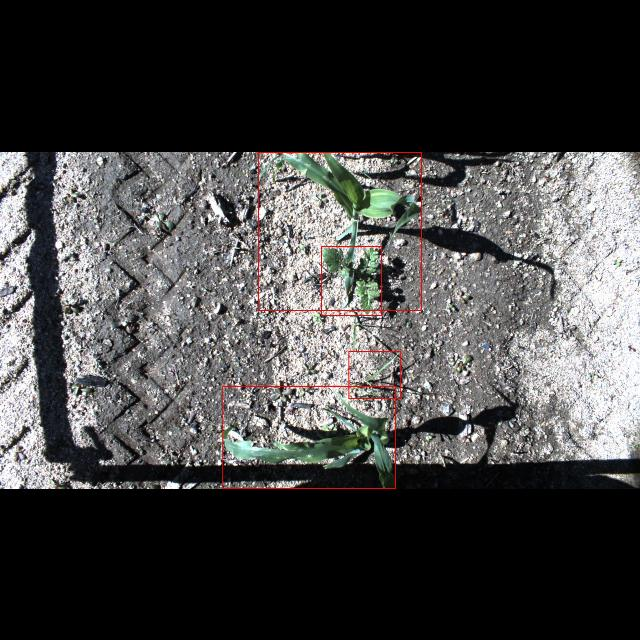crop: (258, 152, 422, 310), (222, 386, 396, 488)
weed: (322, 246, 382, 314), (349, 350, 401, 398)
